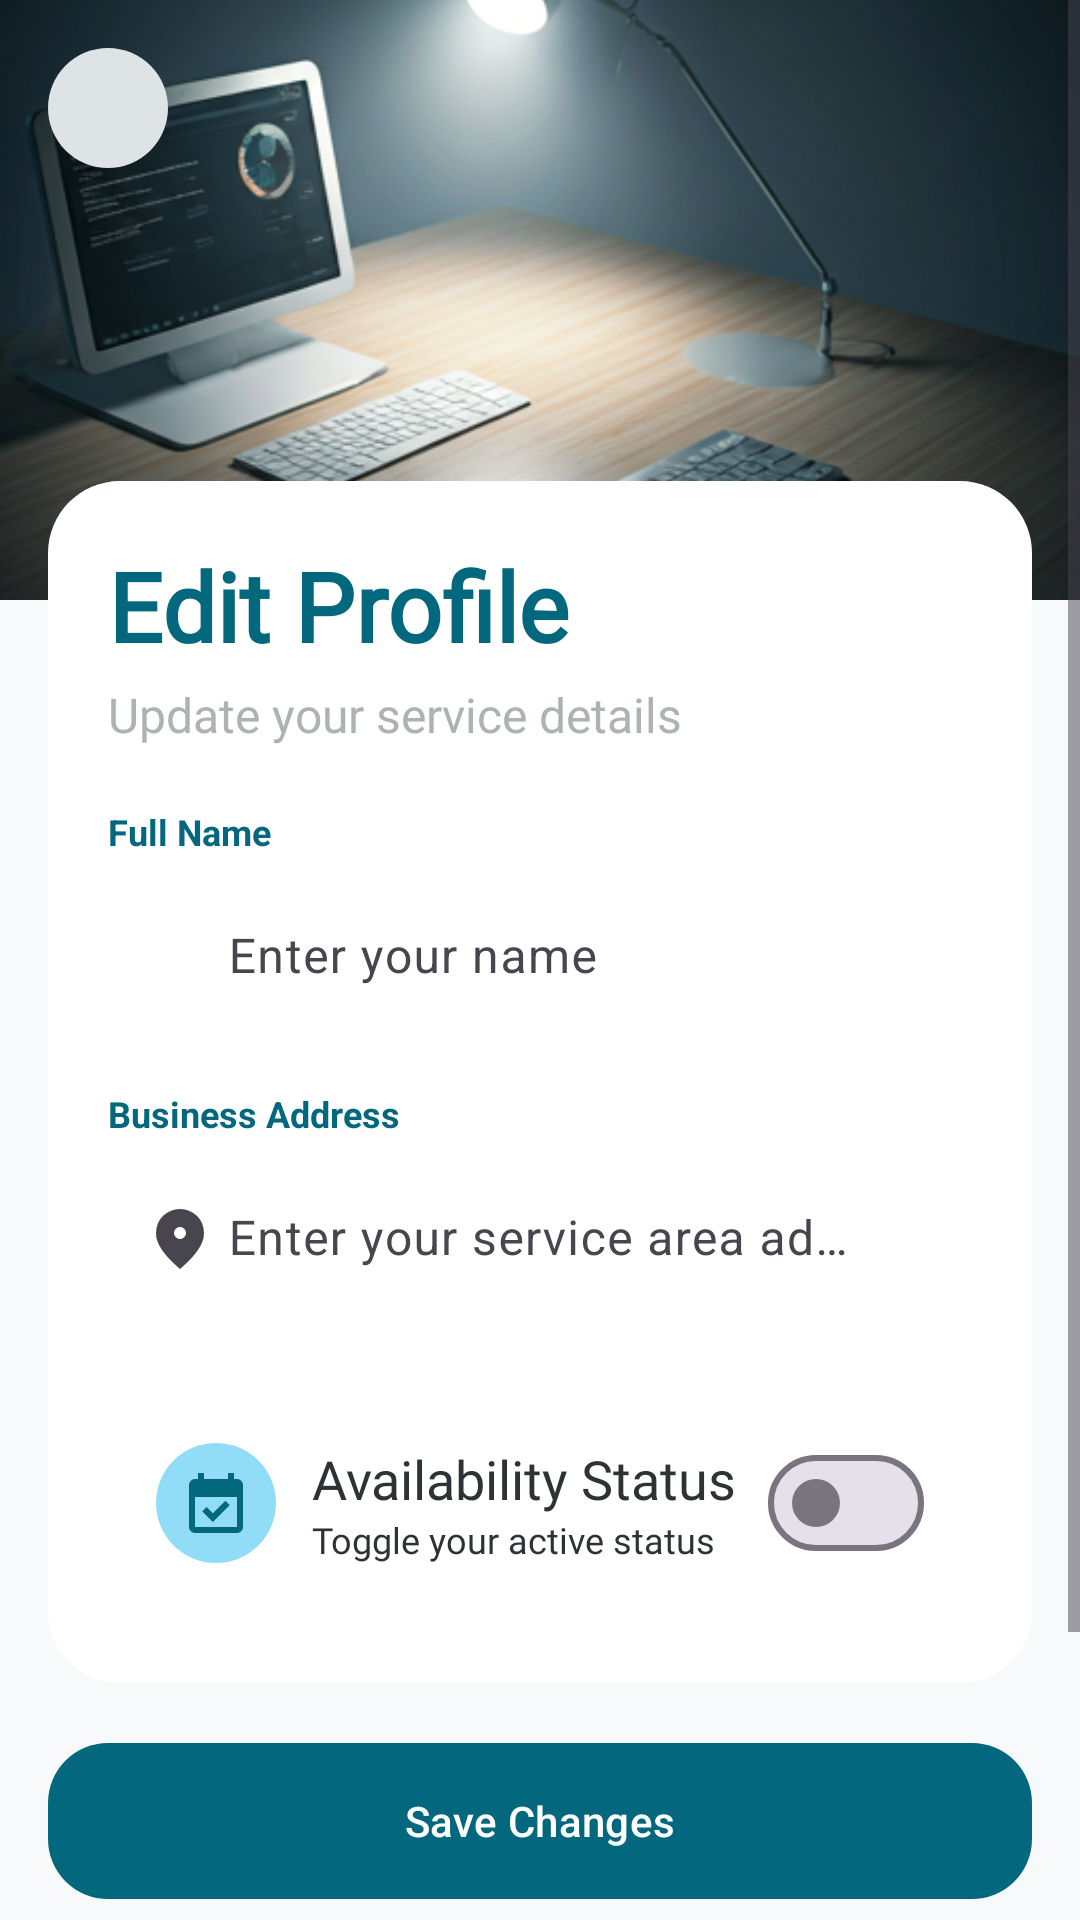

Icon click points for this 1080×1920 phone screenshot, format (x,y):
available: (216,1503)
